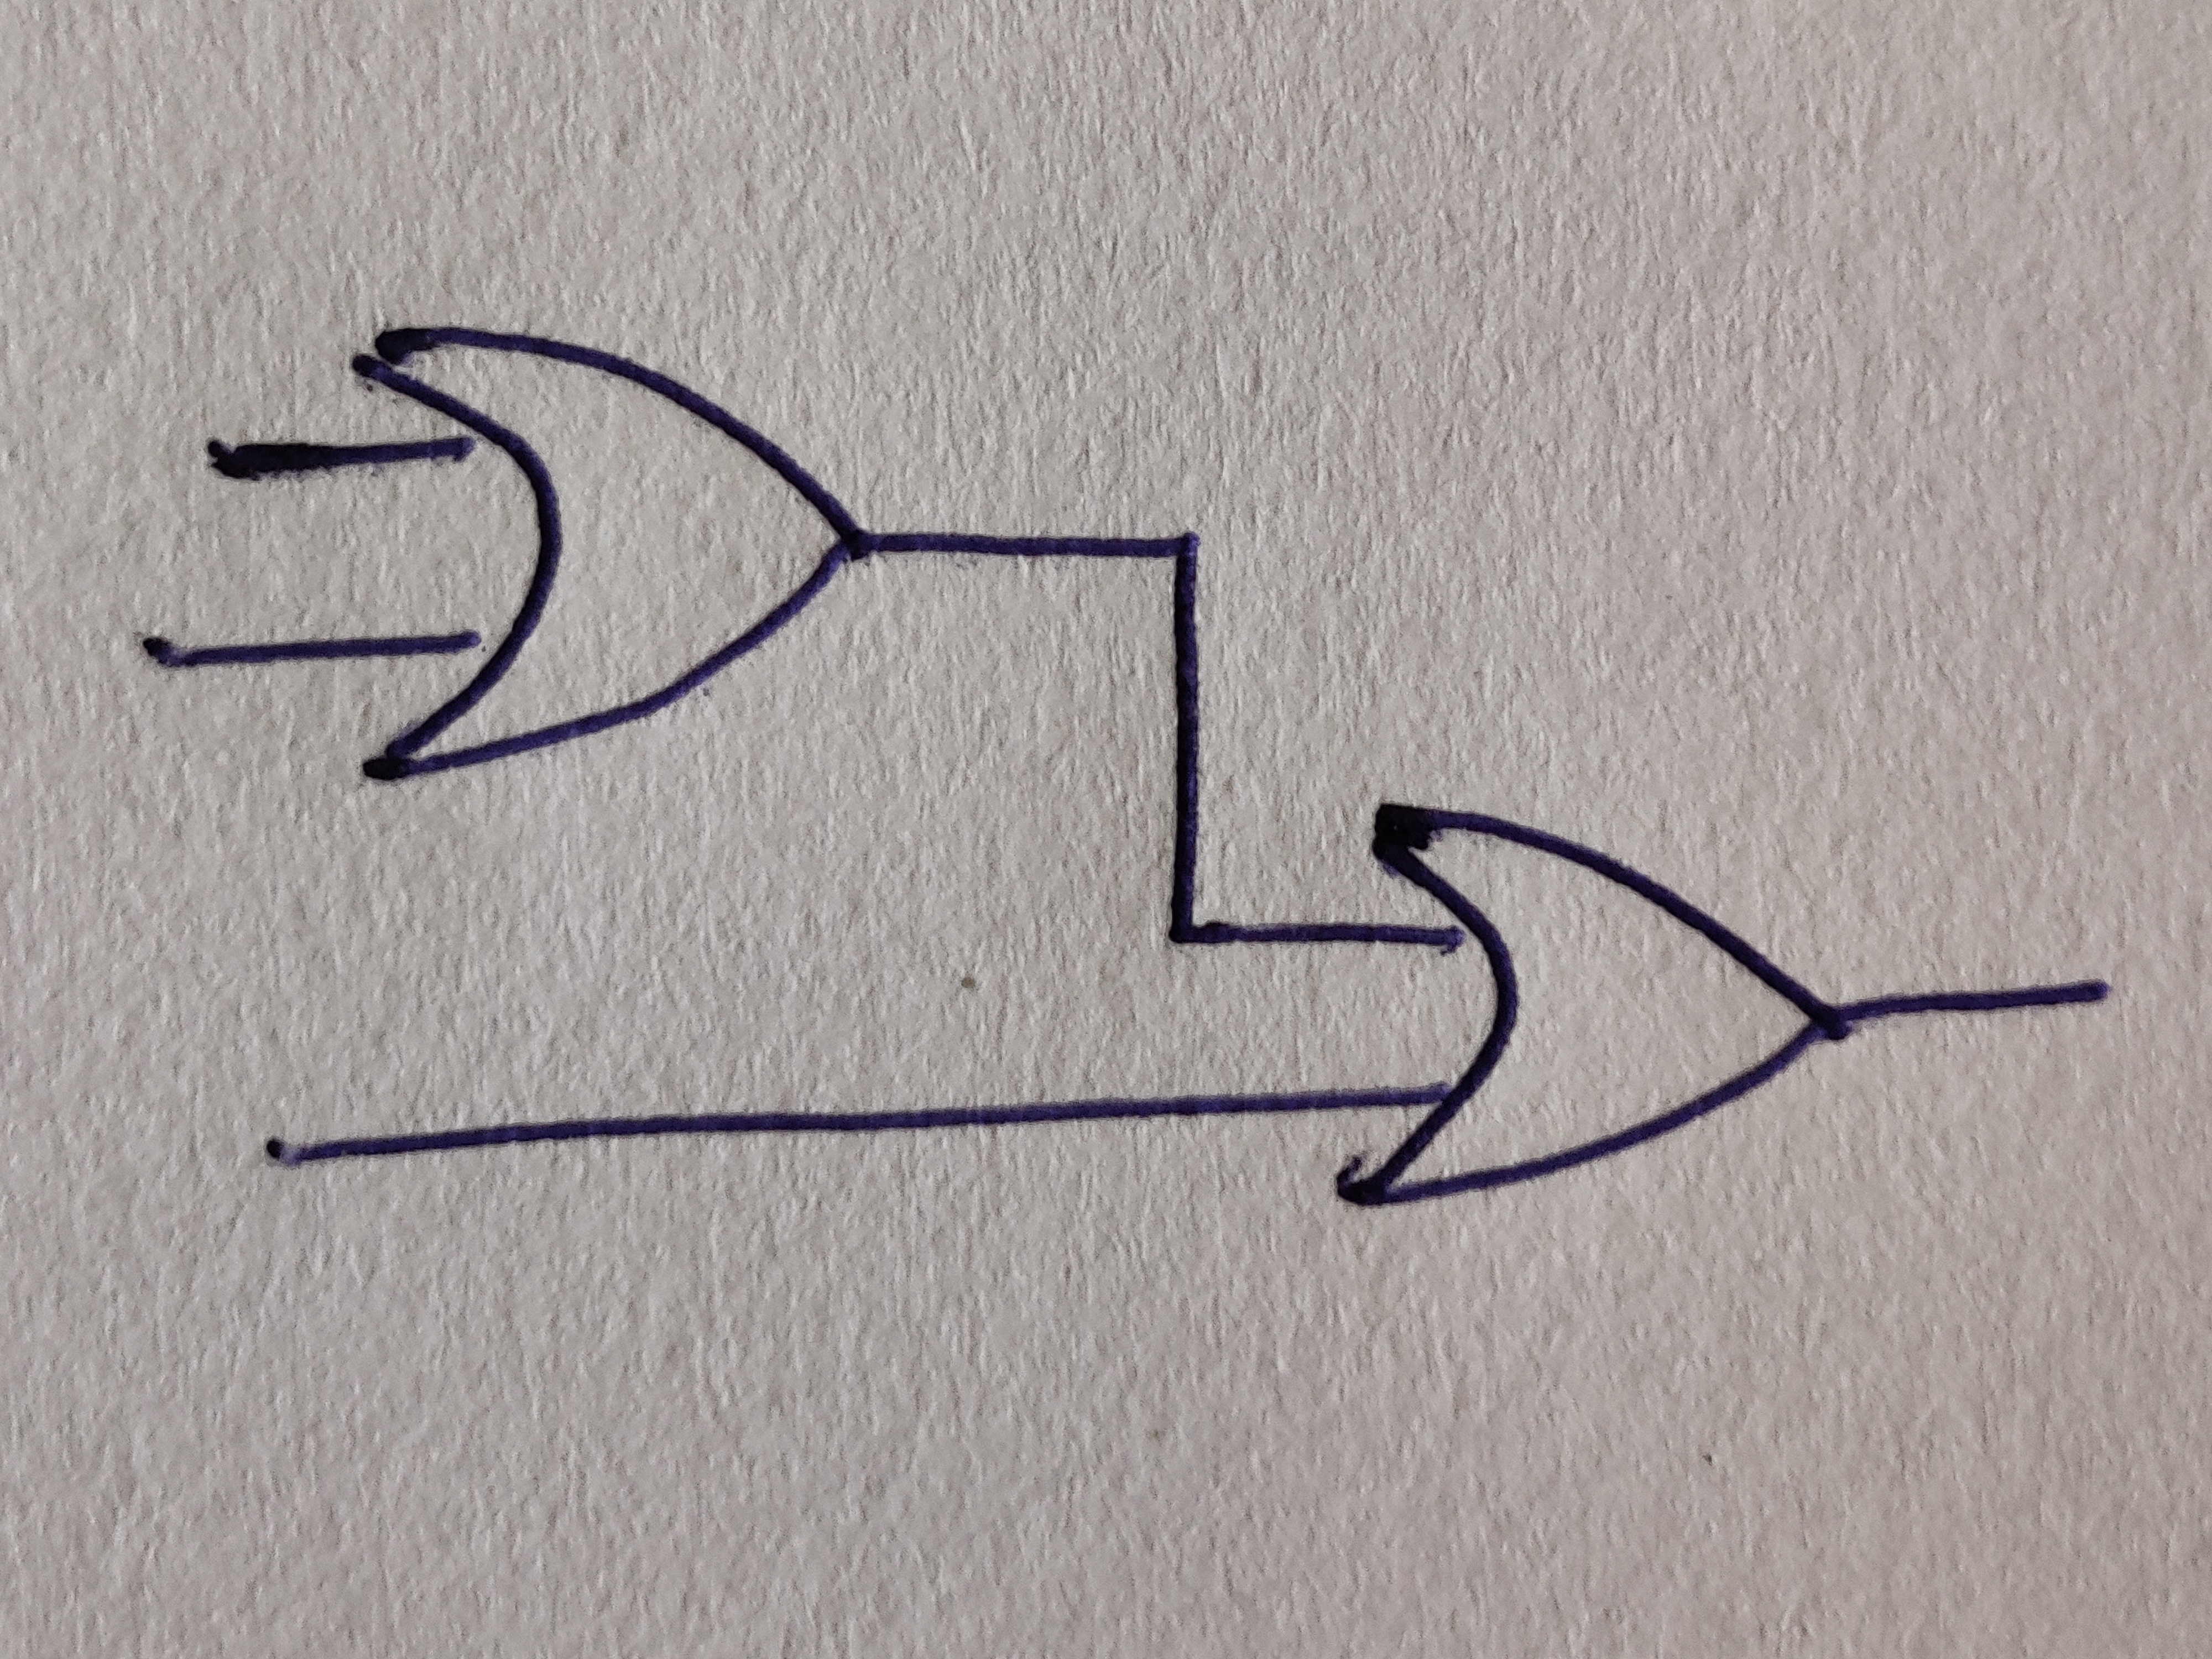or: (352, 328, 867, 782), (1336, 803, 1851, 1211)
